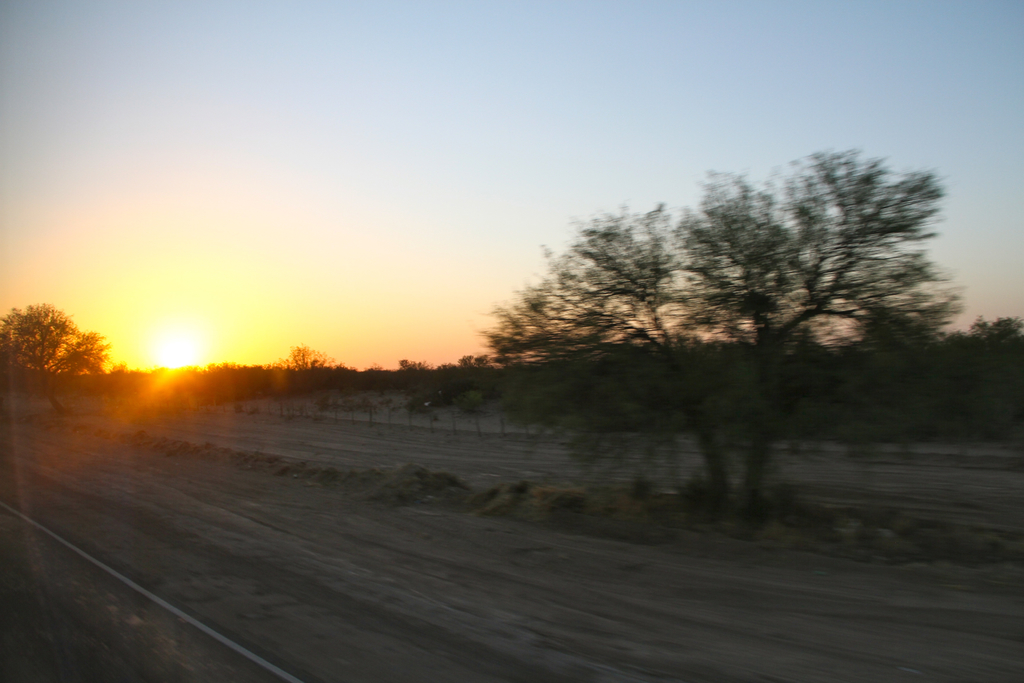Tree: (493, 144, 954, 509), (0, 312, 119, 426)
